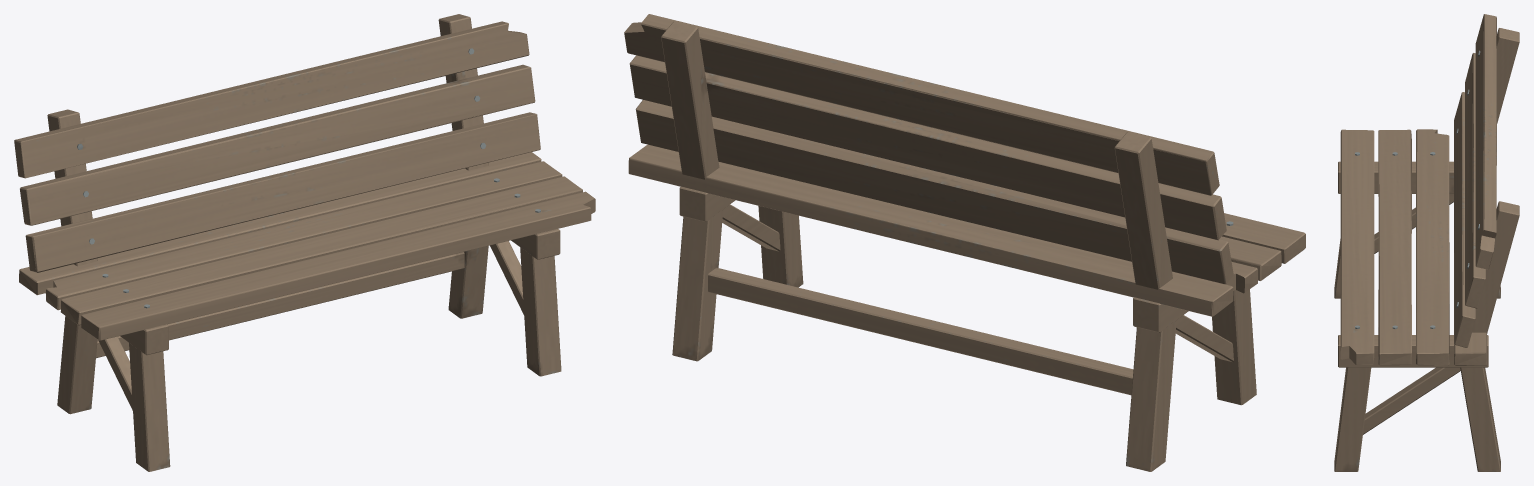
The model's file is lake_lakeside_bench_worn.glb.
3 renders of one model, left to right at view 1: azimuth 30°, elevation 25°; view 2: azimuth 150°, elevation 25°; view 3: azimuth 270°, elevation 25°, orthographic. The views are drawn at different scales.
Parts seen in each view (by area): view 1: LakesideBenchWorn; view 2: LakesideBenchWorn; view 3: LakesideBenchWorn.
Part boxes in pixels (x1,y1,x2,y2): LakesideBenchWorn: (14, 14, 595, 471); LakesideBenchWorn: (624, 14, 1305, 471); LakesideBenchWorn: (1334, 14, 1519, 471).
Size of what is drawn, in the model's own units: 1.6 by 0.8723 by 0.5609.
1 material, 1 textured.
